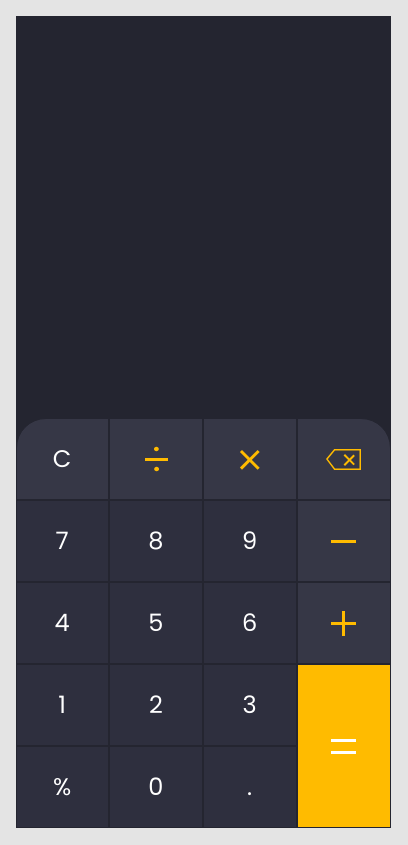
Test case: Calculator renders correctly the result › - 5 * 2 = -10
The width and height of the screenshot is (408, 845).
Click the button with test id "button-operator-minus". click: point(344, 541)
box: [297,500,391,582]
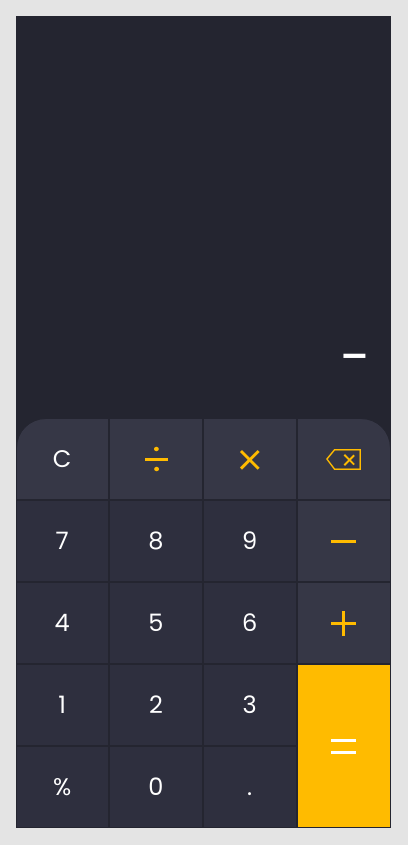
Click the button with test id "button-number-5". click: point(156, 623)
box: [109,582,203,664]
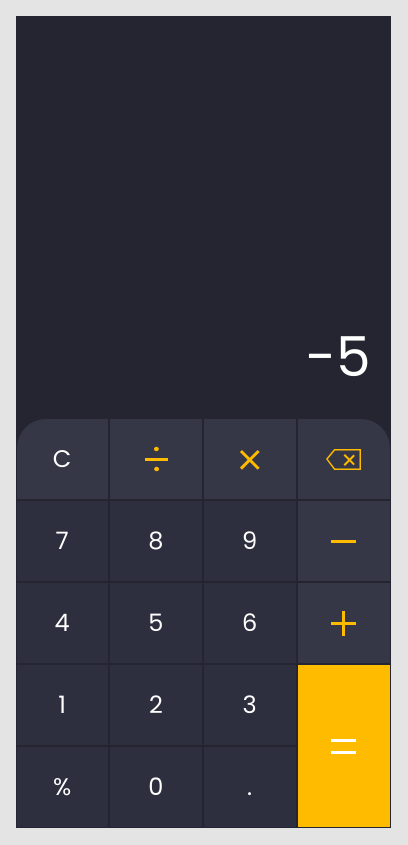
Click the button with test id "button-operator-multiply". click: point(250, 459)
box: [203,418,297,500]
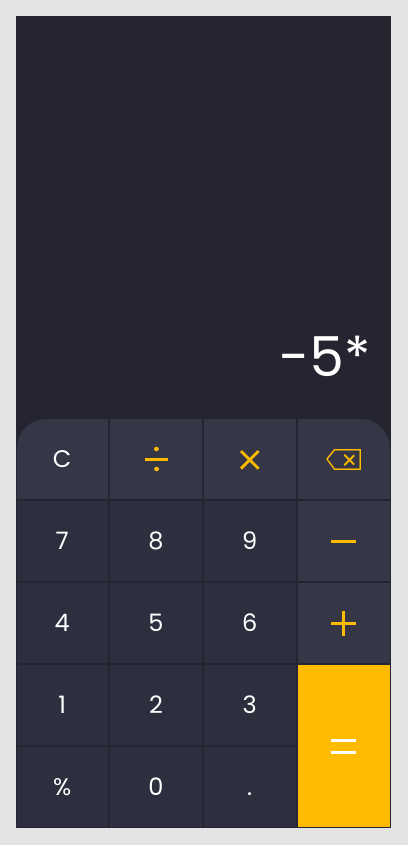
Click the button with test id "button-number-2". click: point(156, 705)
box: [109,664,203,746]
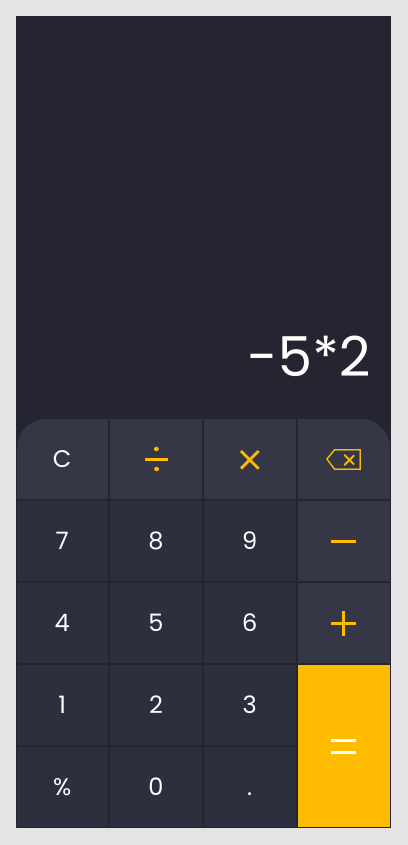
Click the button with test id "button-equals". click: point(344, 746)
box: [297,664,391,828]
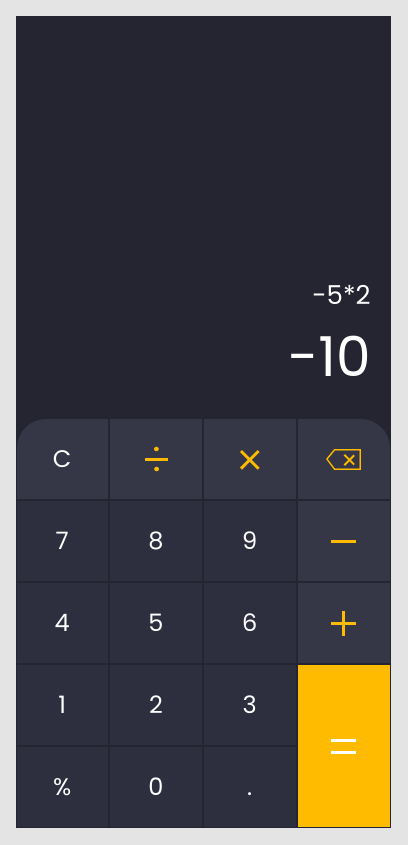
Result: the text with test id "display__result" reads "-10" at [288,318,370,395]
